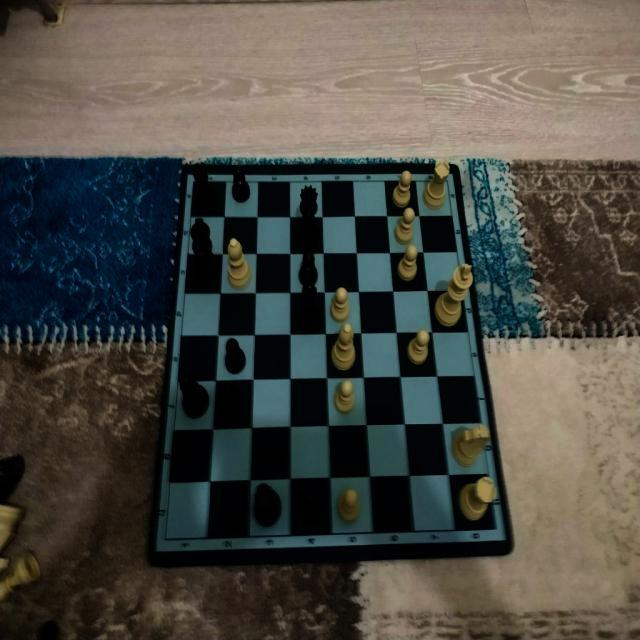chess-table-corners: (158, 530, 174, 549), (440, 173, 454, 190), (489, 520, 503, 537), (186, 176, 201, 190)
